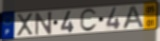4: (105, 6, 122, 31), (60, 9, 76, 34)
A: (121, 5, 146, 31)
C: (79, 8, 98, 34)
N: (34, 11, 53, 37)
X: (16, 12, 35, 38)
